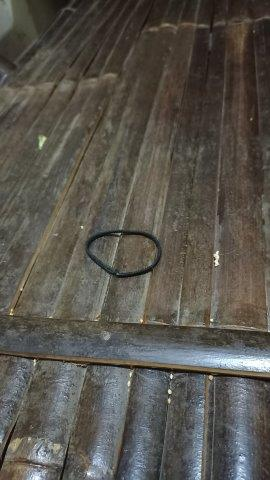karet: (86, 229, 163, 278)
